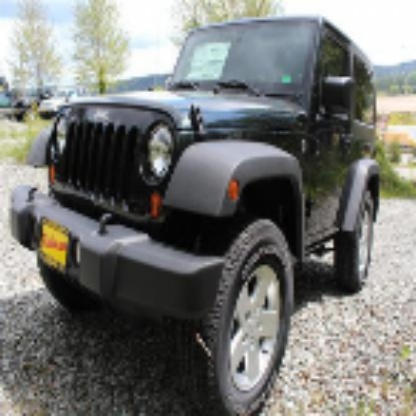Vehicle: (8, 12, 387, 415)
